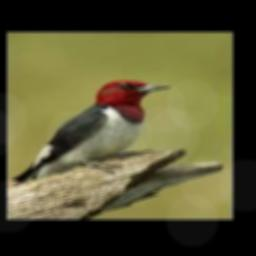Woodpecker: (12, 80, 172, 183)
